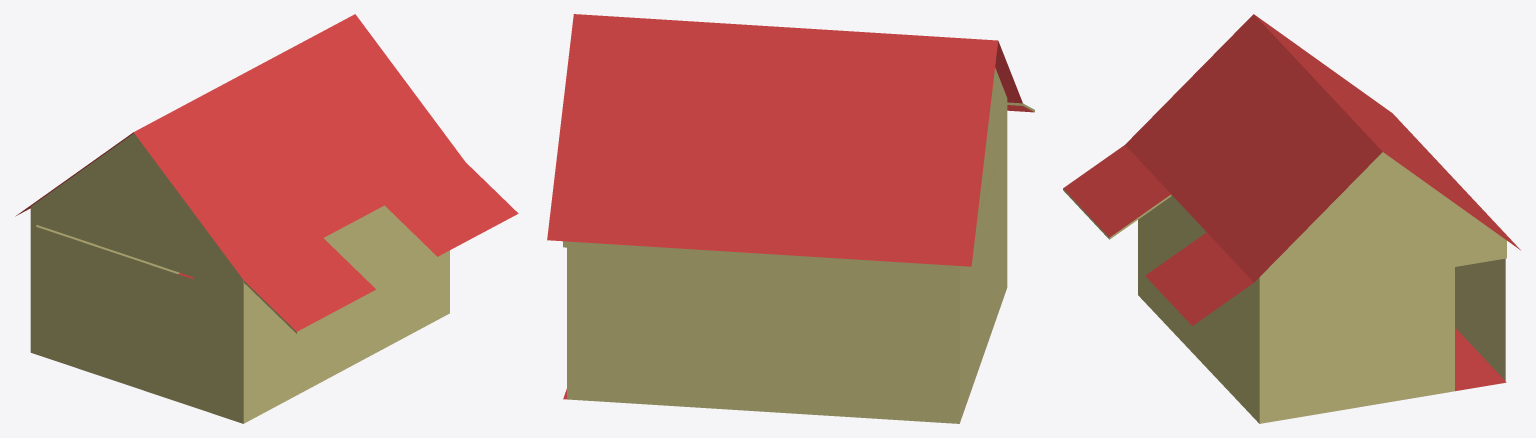
3 renders of one model, left to right at view 1: azimuth 30°, elevation 25°; view 2: azimuth 150°, elevation 25°; view 3: azimuth 270°, elevation 25°, orthographic. The views are drawn at different scales.
Bounding box in the file's own units: 19.75 × 19.84 × 12.25.
